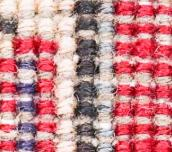Knot: (136, 71, 149, 83), (20, 121, 32, 133), (98, 98, 111, 109), (154, 115, 166, 126), (15, 82, 27, 93), (136, 5, 149, 15), (20, 140, 32, 150), (121, 2, 131, 14), (159, 33, 169, 45), (37, 71, 50, 80), (119, 73, 129, 84), (118, 140, 128, 150), (156, 140, 166, 150), (159, 14, 169, 24), (119, 62, 129, 72), (38, 61, 48, 71), (159, 4, 169, 14), (138, 86, 149, 95), (20, 131, 32, 139), (35, 141, 45, 150), (139, 105, 148, 115), (114, 105, 123, 115), (156, 103, 164, 114), (138, 32, 149, 40), (20, 40, 27, 52), (139, 95, 149, 103), (121, 23, 129, 33), (161, 64, 169, 74), (159, 76, 169, 84), (156, 126, 166, 134), (7, 61, 15, 71), (156, 87, 164, 97), (2, 71, 10, 80), (123, 14, 131, 23), (139, 116, 148, 124), (144, 23, 152, 32), (156, 24, 164, 33), (157, 54, 166, 62), (161, 45, 169, 54), (143, 141, 151, 150), (136, 62, 144, 71), (45, 141, 53, 150), (20, 92, 28, 101), (126, 86, 134, 95), (7, 130, 15, 139), (2, 92, 12, 99), (134, 133, 144, 140), (118, 95, 128, 102), (129, 76, 136, 86), (134, 44, 141, 54), (114, 23, 121, 33), (113, 61, 119, 72), (42, 114, 50, 122), (118, 34, 126, 42), (121, 125, 129, 133), (35, 131, 43, 139), (40, 91, 48, 99), (40, 122, 48, 130), (136, 15, 144, 23), (134, 141, 141, 150), (134, 124, 141, 133), (123, 105, 129, 115), (118, 134, 128, 140), (121, 53, 128, 61), (149, 95, 156, 103), (131, 34, 138, 42), (43, 106, 50, 114), (118, 84, 124, 93), (128, 141, 134, 150), (149, 105, 154, 115), (131, 23, 136, 33), (45, 133, 52, 140), (156, 97, 164, 103), (164, 25, 169, 33), (123, 116, 129, 122), (136, 55, 141, 62), (169, 6, 171, 14)
